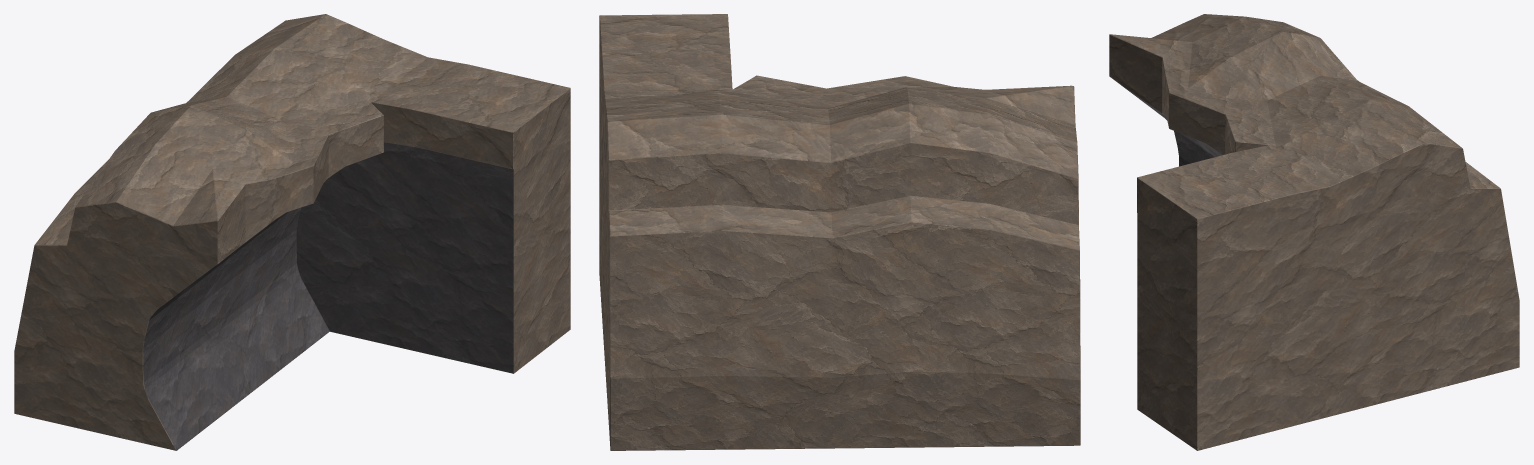
Rendered from REJECTED-R30.glb.
The picture shows the model from 3 angles, left to right: view 1: azimuth 30°, elevation 25°; view 2: azimuth 150°, elevation 25°; view 3: azimuth 270°, elevation 25°; orthographic projection. The views are drawn at different scales.
Visible parts, largest first — view 1: Excavated asymmetric broken mountain; view 2: Excavated asymmetric broken mountain; view 3: Excavated asymmetric broken mountain.
Boxes of the visible parts, x1,y1,x2,y2 form: Excavated asymmetric broken mountain: (14, 14, 570, 450); Excavated asymmetric broken mountain: (599, 14, 1080, 450); Excavated asymmetric broken mountain: (1109, 14, 1519, 450).
Bounding box in the file's own units: 12.53 × 6.5 × 9.22.
Materials: 4 (4 with a texture image).
